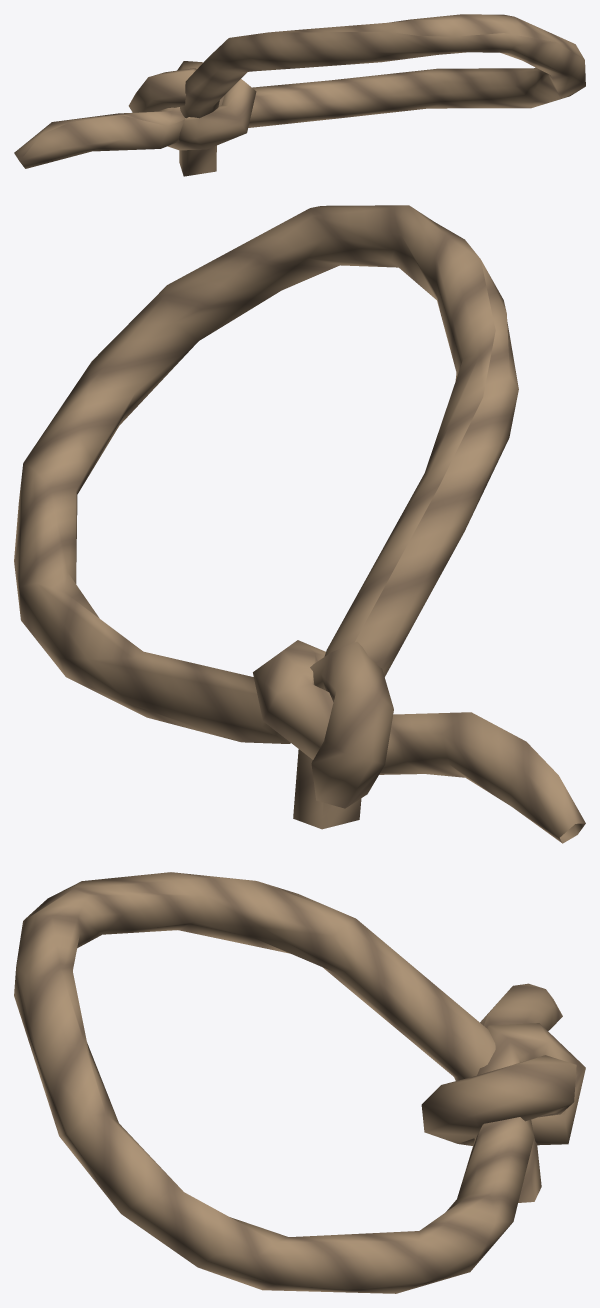
The model's file is rope_head.fbx.
The picture shows the model from 3 angles, top to bottom: view 1: azimuth 30°, elevation 25°; view 2: azimuth 150°, elevation 25°; view 3: azimuth 270°, elevation 25°; orthographic projection. The views are drawn at different scales.
Visible parts, largest first — view 1: rope_old_002__1_; view 2: rope_old_002__1_; view 3: rope_old_002__1_.
Boxes of the visible parts, x1,y1,x2,y2 form: rope_old_002__1_: [14, 14, 585, 176]; rope_old_002__1_: [14, 205, 585, 843]; rope_old_002__1_: [14, 872, 585, 1293].
Bounding box in the file's own units: 1.62 × 0.8314 × 1.19.
Materials: 1 (1 with a texture image).
